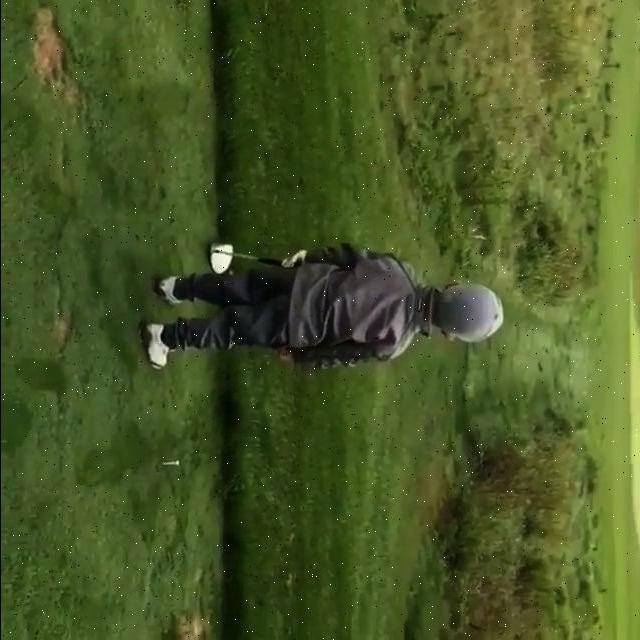golf club-handle: (208, 244, 300, 275)
golf club-head: (209, 243, 233, 274)
